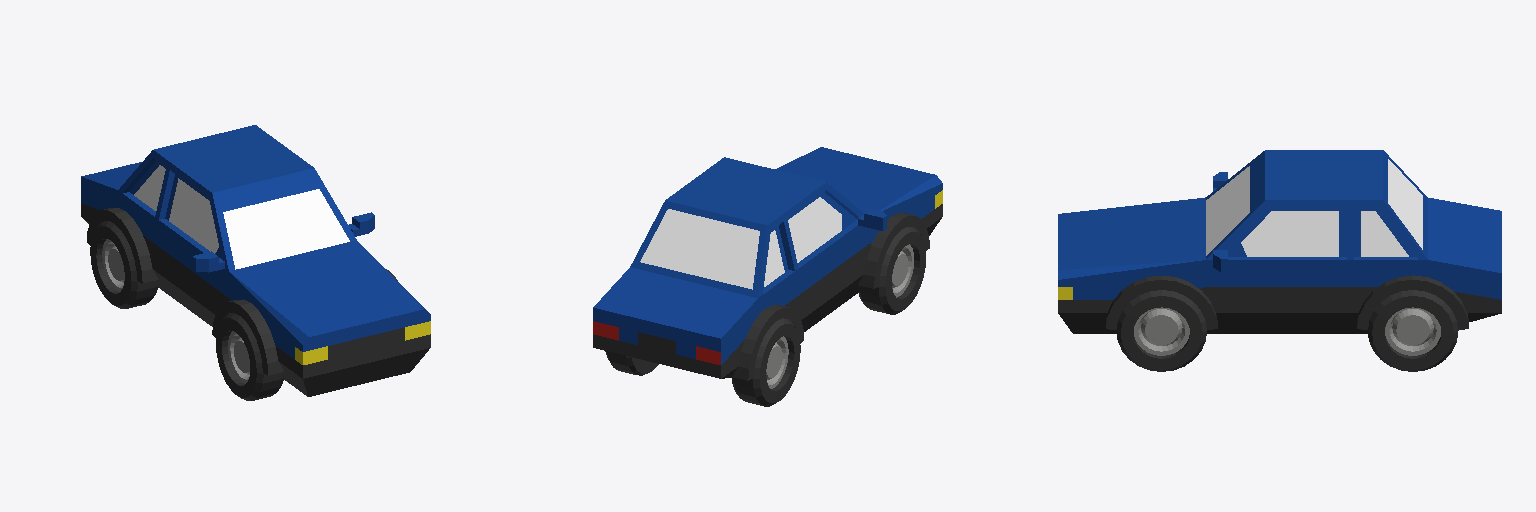
File: car_long_blue.obj
3 renders of one model, left to right at view 1: azimuth 30°, elevation 25°; view 2: azimuth 150°, elevation 25°; view 3: azimuth 270°, elevation 25°, orthographic.
Visible parts, largest first — view 1: mergedBlocks; view 2: mergedBlocks; view 3: mergedBlocks.
Boxes of the visible parts, <box> form: mergedBlocks: <box>81,125,430,400</box>; mergedBlocks: <box>593,147,942,406</box>; mergedBlocks: <box>1058,150,1501,371</box>.
Size of the model in its own units: 1.4 by 1.21 by 3.